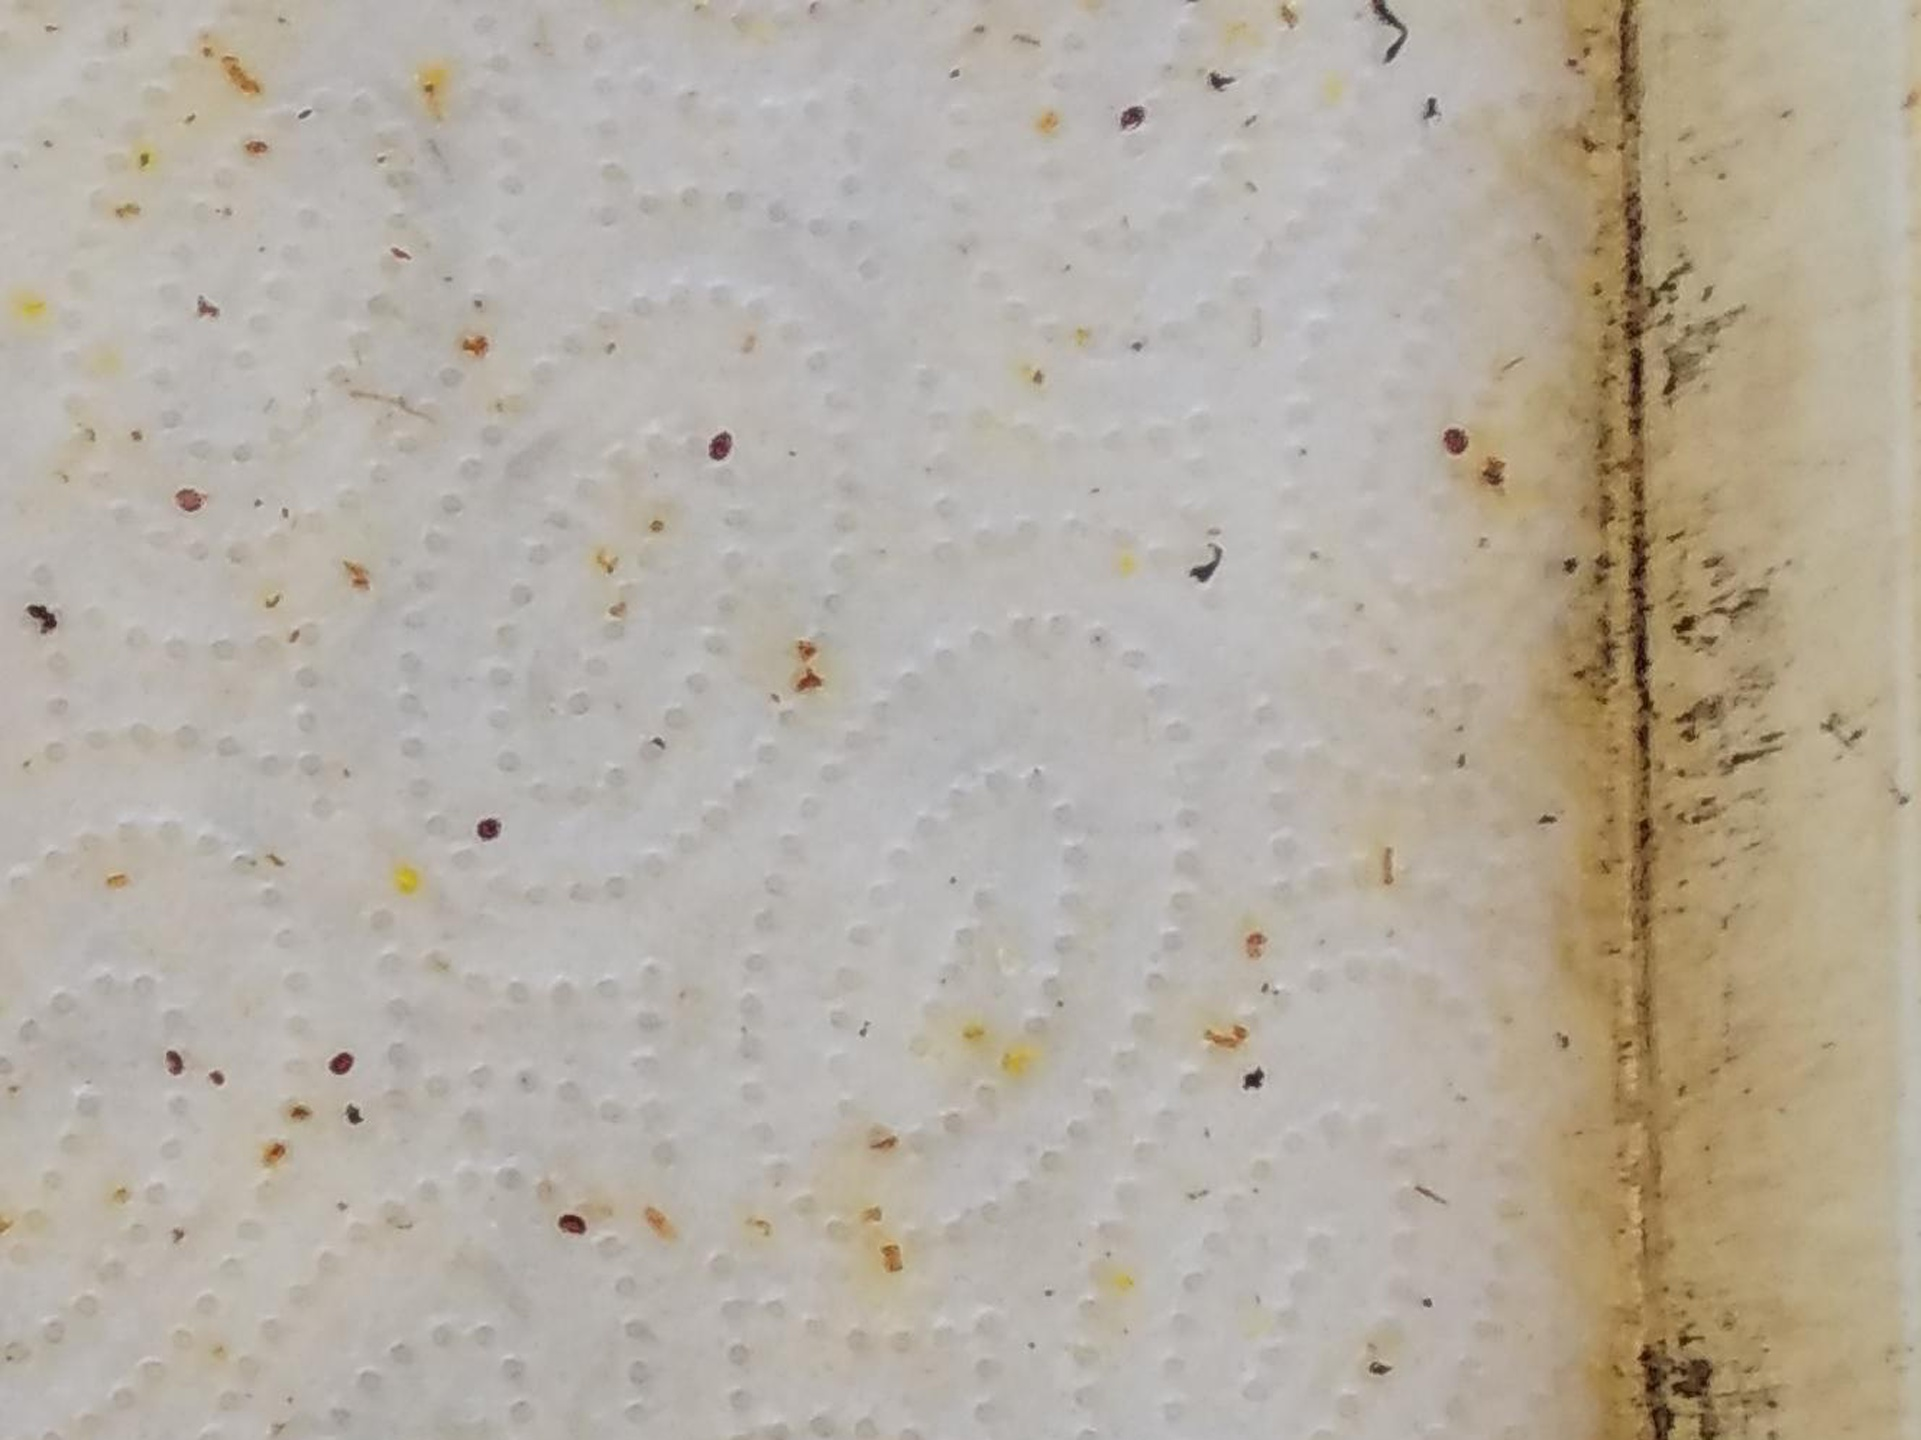Varroa: (321, 1041, 365, 1085), (552, 1209, 587, 1245), (1113, 101, 1145, 135), (175, 483, 207, 514), (700, 433, 731, 464), (473, 814, 504, 846), (157, 1050, 188, 1078), (1435, 424, 1466, 452)
